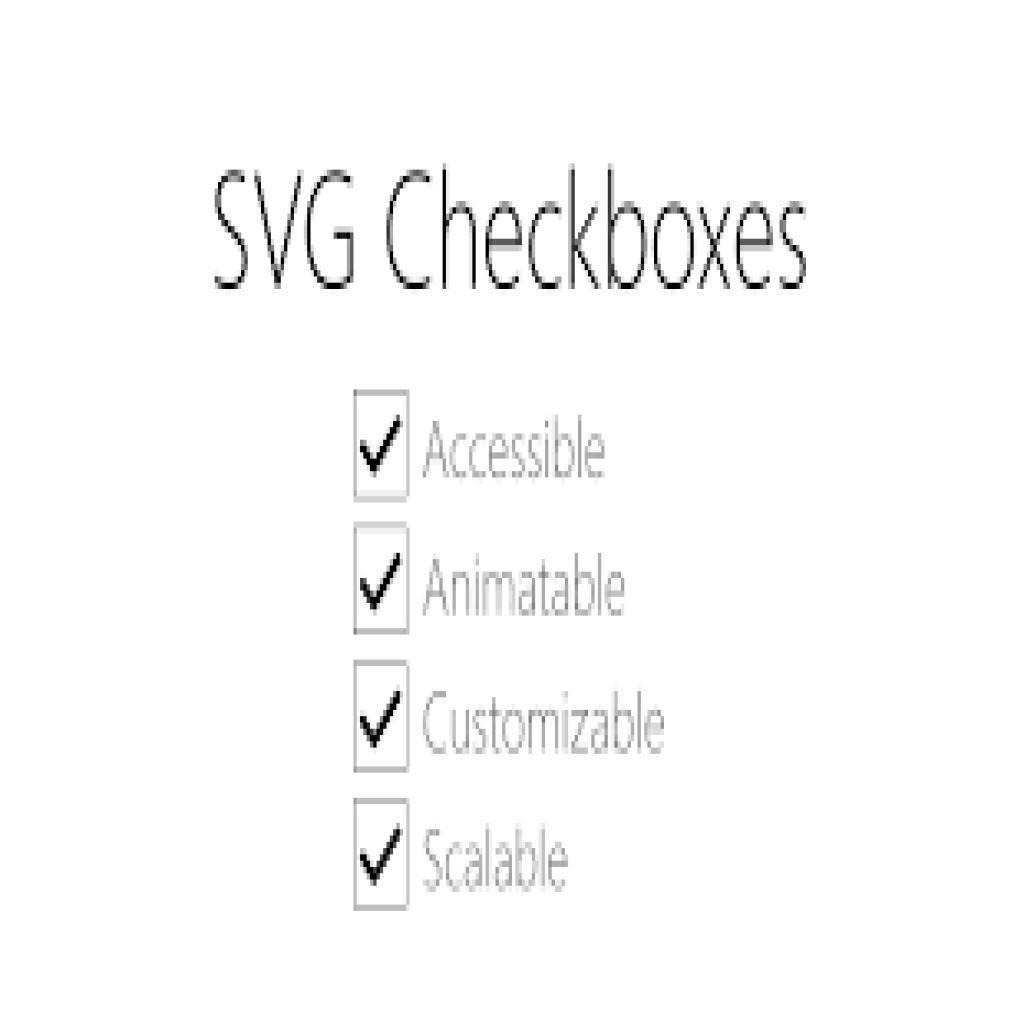checkbox: (353, 801, 412, 909), (356, 521, 411, 636), (353, 663, 411, 771), (354, 394, 411, 501)
